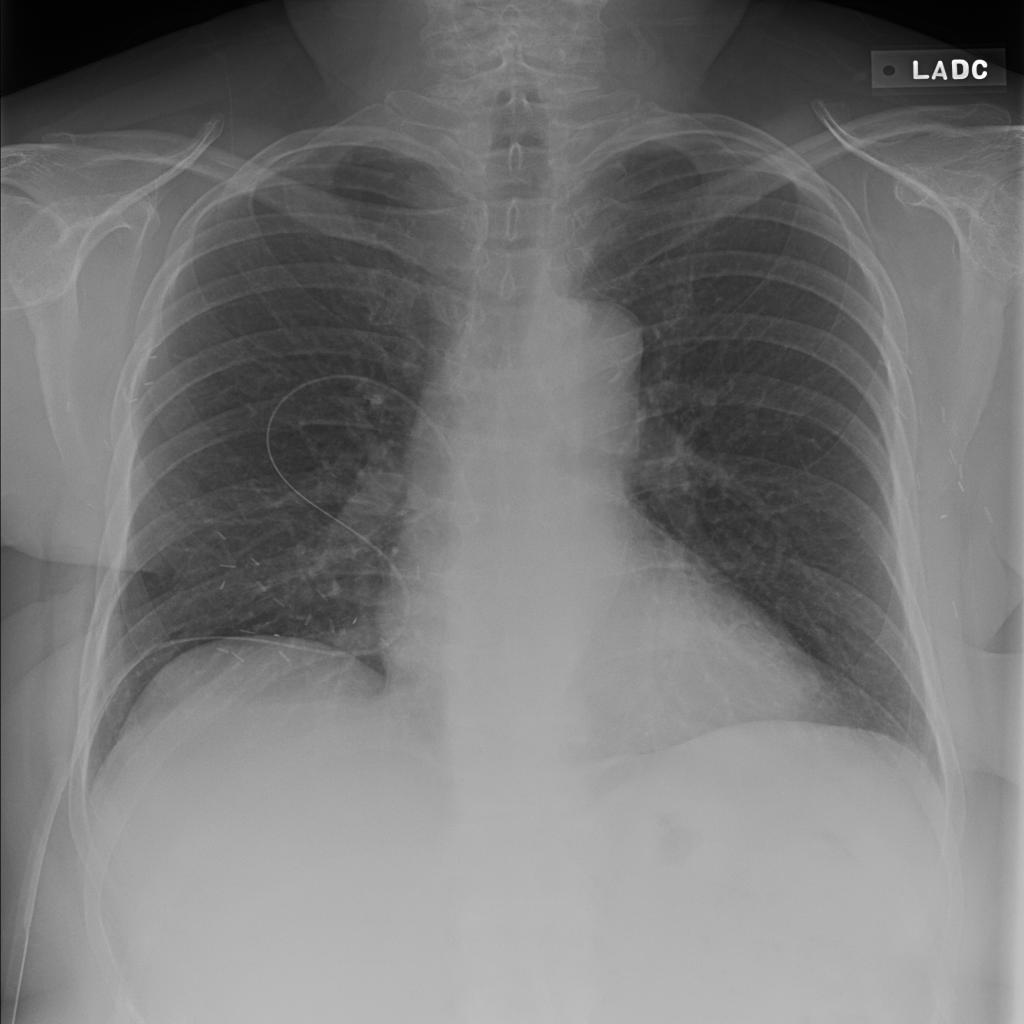Nodule: (136, 241, 202, 281)
